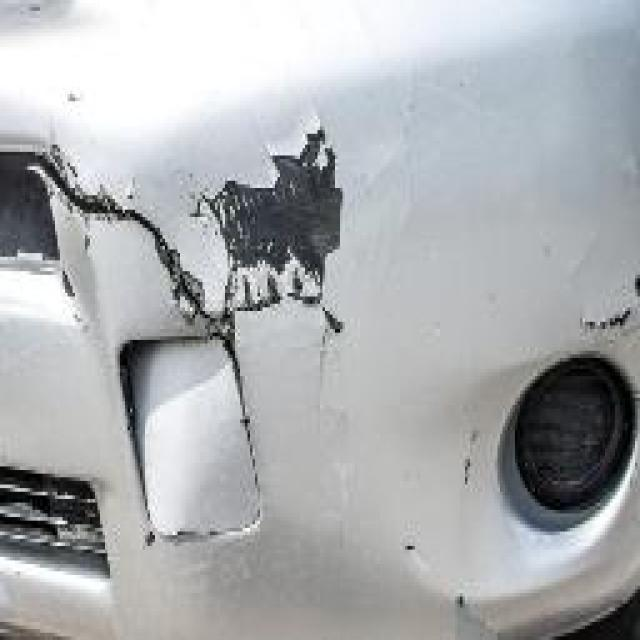Bumper: (2, 40, 458, 640)
